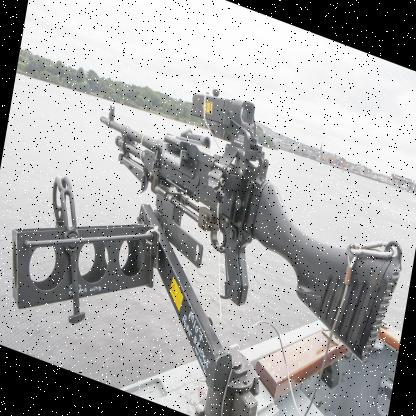rifle: (73, 93, 403, 365)
